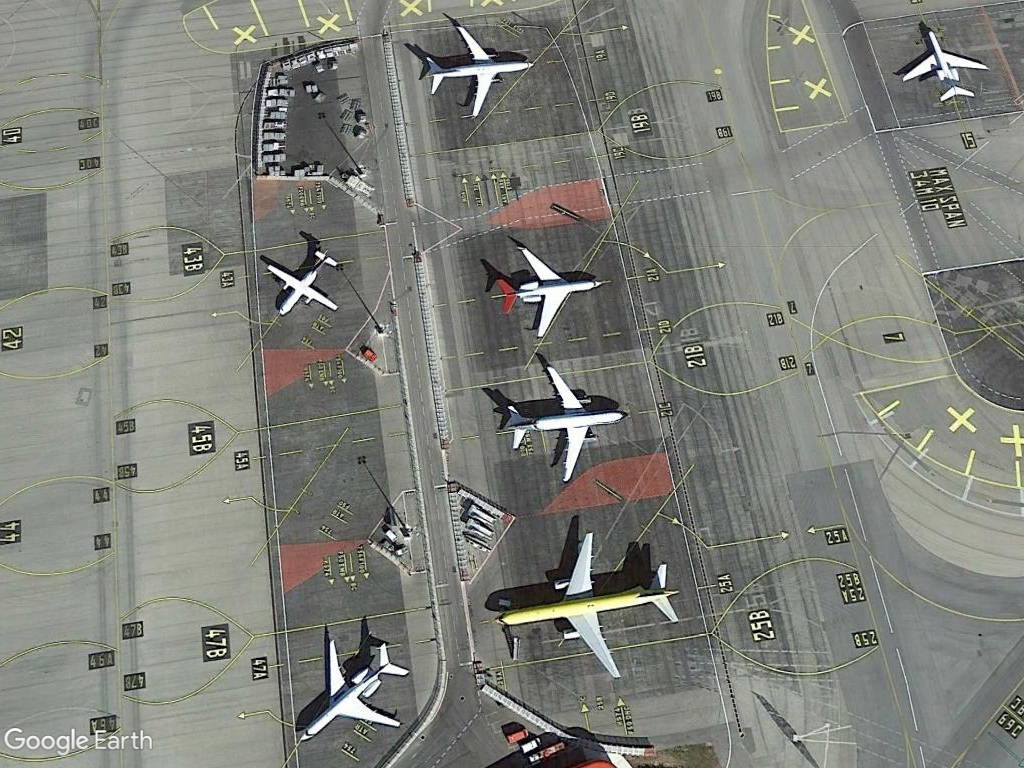airliner: (491, 523, 685, 689), (496, 363, 631, 484)
chartered: (294, 636, 408, 744), (487, 243, 603, 341)
propeller: (263, 244, 341, 318)
